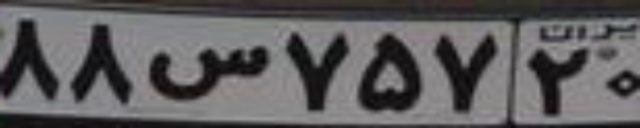0: (602, 67, 639, 98)
2: (526, 47, 591, 116)
5: (356, 34, 423, 112)
7: (431, 32, 503, 114), (283, 29, 349, 111)
8: (69, 21, 136, 106), (0, 16, 60, 102)
sin: (148, 44, 273, 100)
